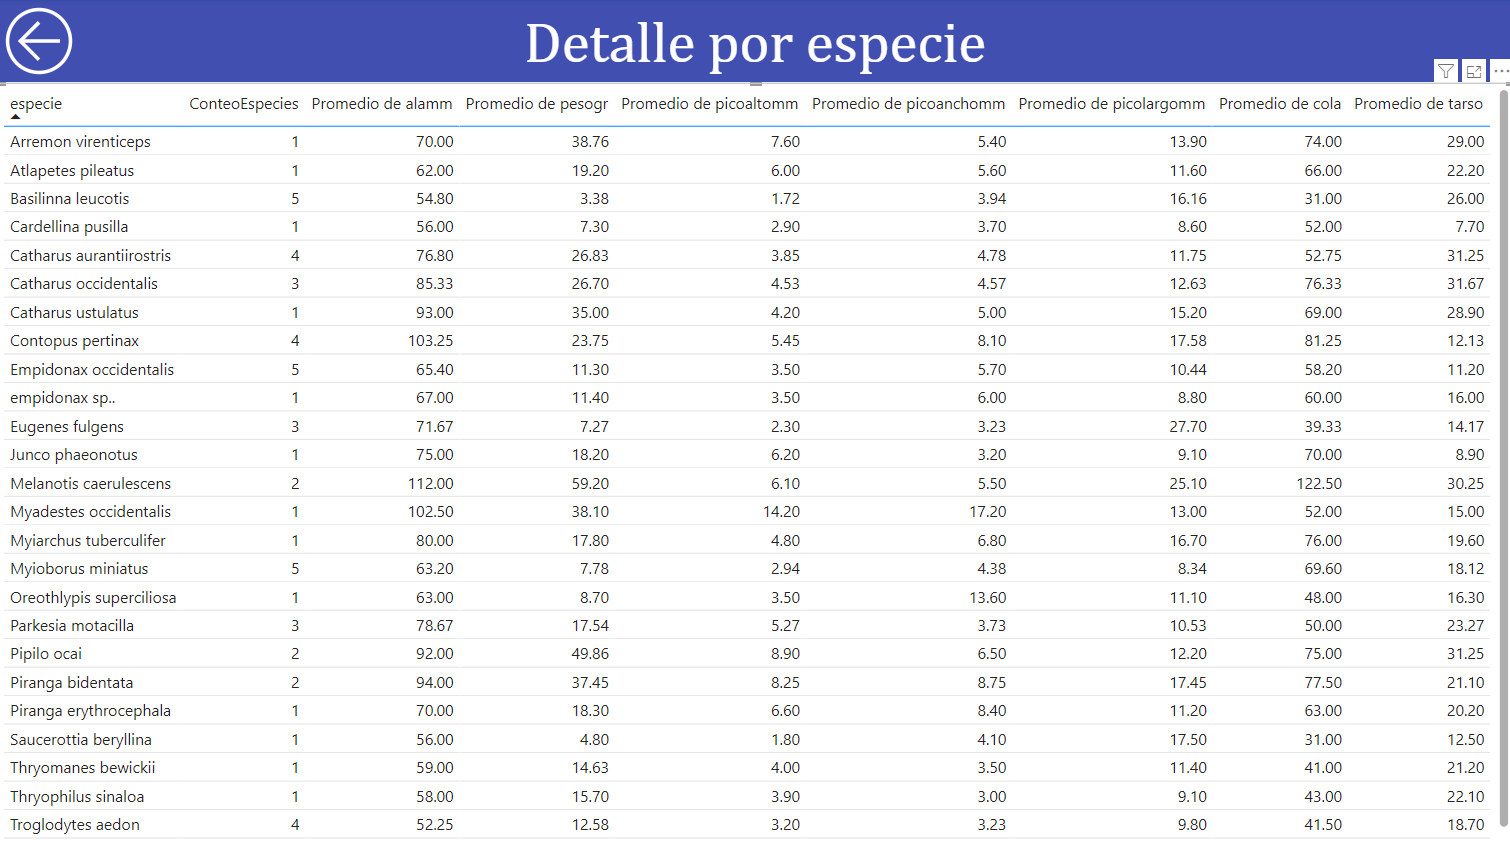

The dashboard page shown, as its layout file describes it:
{"tool":"powerbi","page":{"name":"Detalle por especie","canvas":[1280,720],"ordinal":2},"visuals":[{"type":"shape","box":[0,0,1280,70.8],"z":0},{"type":"tableEx","fields":{"Values":["datosaves3.especie","datosaves3.ConteoEspecies","Avg(datosaves3.alamm)","Avg(datosaves3.pesogr)","Avg(datosaves3.picoaltomm)","Avg(datosaves3.picoanchomm)","Avg(datosaves3.picolargomm)","Avg(datosaves3.cola)","Avg(datosaves3.tarso)"]},"box":[0,70.8,1280,649],"z":1000},{"type":"actionButton","box":[0,0,111.5,70.8],"z":2000},{"type":"textbox","box":[408.3,2.6,462,68.1],"z":3000}]}

Visuals, with their boxes on the page's 1280x720 design canvas (x1, y1, x2, y2). These are canvas units, not pixel positions in the 1510x847 screenshot, which may show the page scaled, cropped or inside an application window:
shape: l=0, t=0, r=1280, b=71
tableEx - datosaves3.especie x datosaves3.ConteoEspecies: l=0, t=71, r=1280, b=720
actionButton: l=0, t=0, r=112, b=71
textbox: l=408, t=3, r=870, b=71
